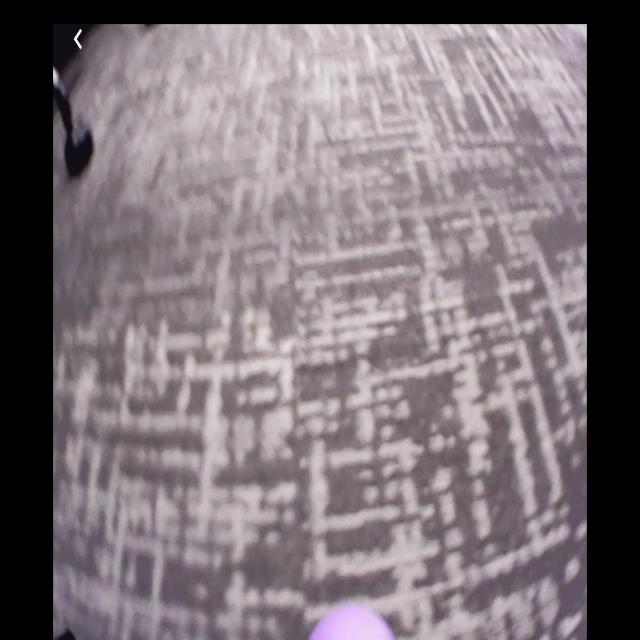ball: (307, 603, 395, 640)
